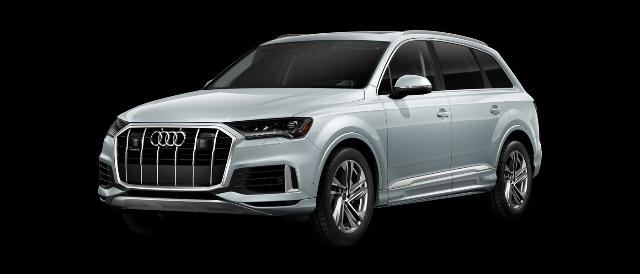audi: (98, 28, 542, 246)
